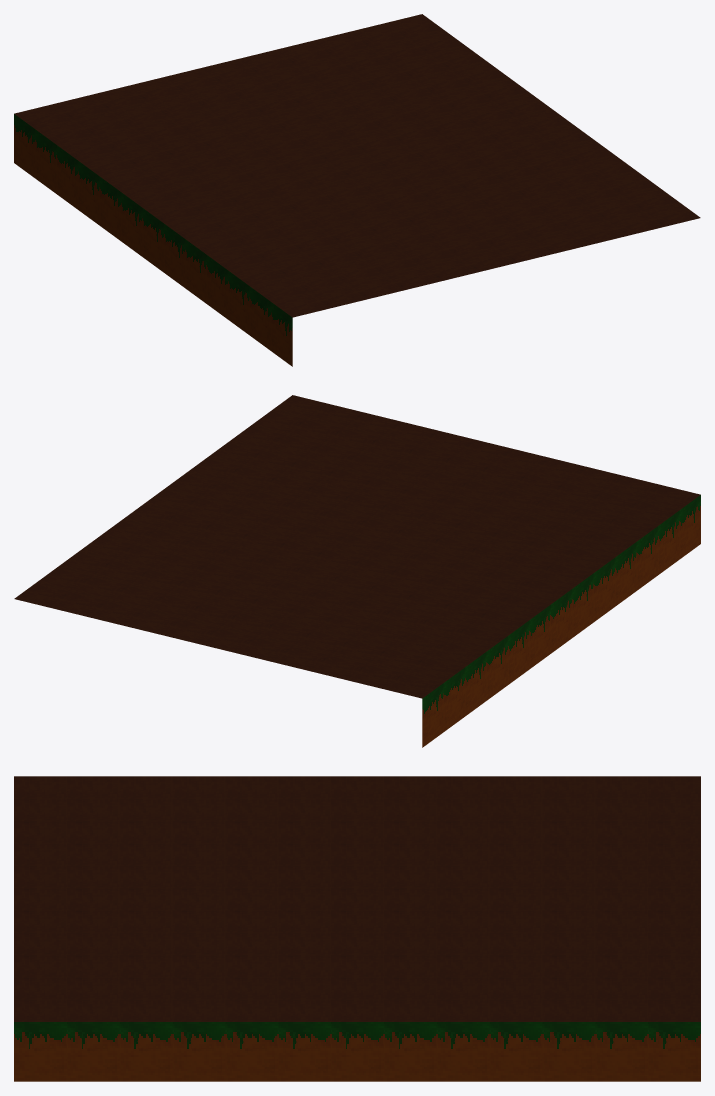
File: Luna0CinemaDesfecho3D.glb
3 views of the same model, one above another, from view 1: azimuth 30°, elevation 25°; view 2: azimuth 150°, elevation 25°; view 3: azimuth 270°, elevation 25° (orthographic). The views are drawn at different scales.
Visible parts, largest first — view 1: Setor_0, Setor_-1; view 2: Setor_0, Setor_-1; view 3: Setor_0, Setor_-1.
Part boxes in pixels (x1,y1,x2,y2): Setor_0: (51, 14, 700, 308); Setor_-1: (14, 104, 329, 366); Setor_0: (14, 395, 663, 689); Setor_-1: (385, 485, 700, 747); Setor_0: (14, 798, 700, 1081); Setor_-1: (14, 776, 700, 798).
Bounding box in the file's own units: 11.44 × 1.32 × 13.52.
Materials: 1 (1 with a texture image).
